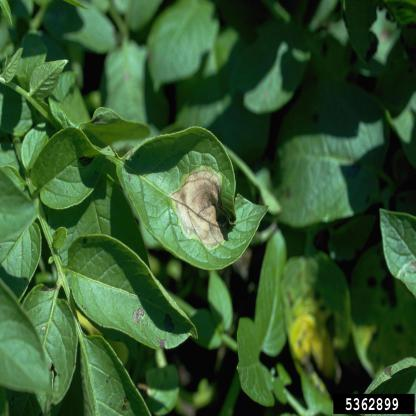potato leaf early blight: (114, 124, 271, 270), (65, 229, 198, 351), (28, 123, 113, 210), (77, 101, 151, 144)
